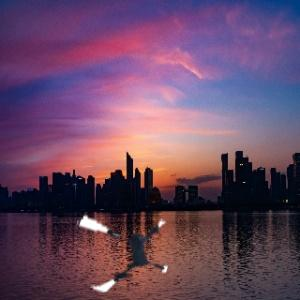drone: (72, 200, 173, 300)
